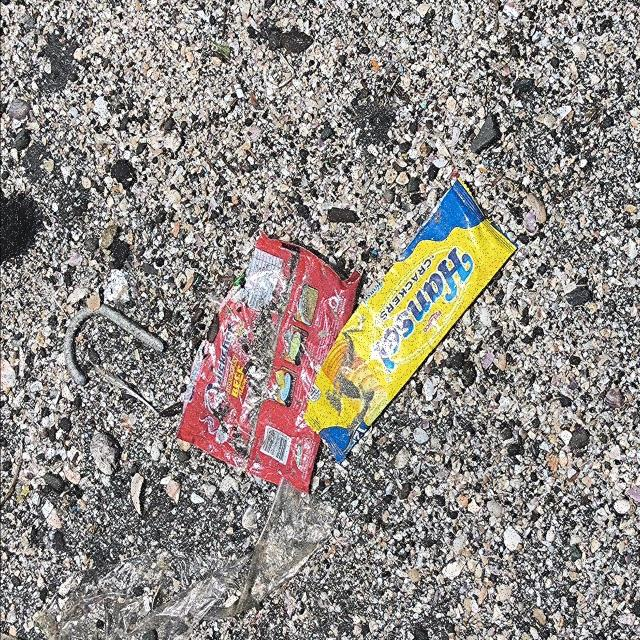plastic_waste: (303, 174, 519, 468), (174, 230, 369, 495)
